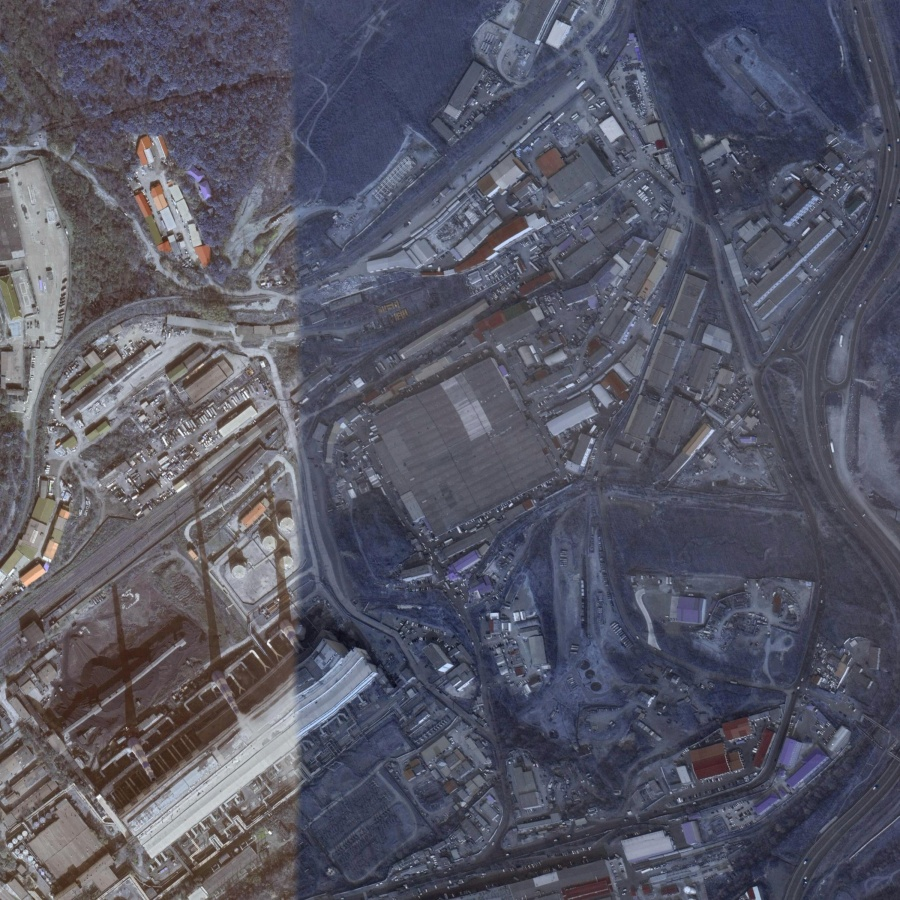PowerPlant: (46, 493, 374, 861)
